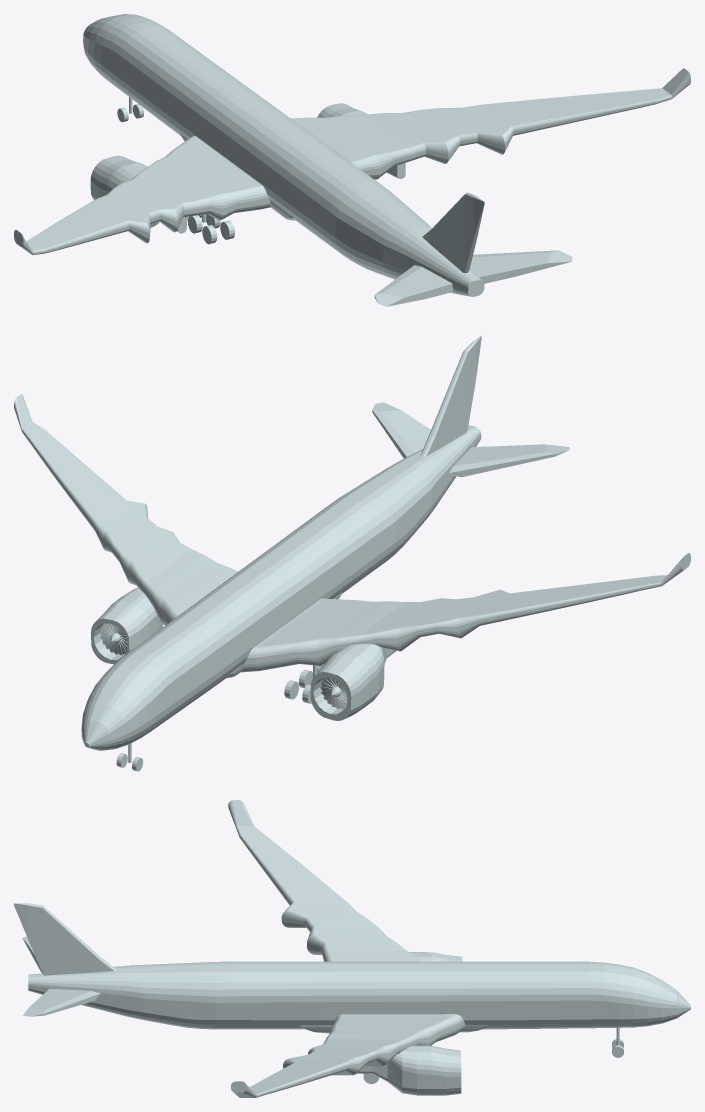
3 renders of one model, top to bottom at view 1: azimuth 30°, elevation 25°; view 2: azimuth 150°, elevation 25°; view 3: azimuth 270°, elevation 25°, orthographic. The views are drawn at different scales.
Parts seen in each view (by area): view 1: Aircraft visual hull, Landing gear; view 2: Aircraft visual hull, Landing gear, Rotor 1790206985138-odd1dy9j4q; view 3: Aircraft visual hull.
Boxes of the visible parts, x1,y1,x2,y2 form: Aircraft visual hull: (14, 14, 690, 306); Landing gear: (117, 97, 234, 244); Aircraft visual hull: (14, 335, 690, 750); Landing gear: (116, 663, 324, 771); Rotor 1790206985138-odd1dy9j4q: (99, 623, 127, 655); Aircraft visual hull: (14, 800, 690, 1097).
Size of the model in its own units: 65.28 by 16.63 by 66.94.
